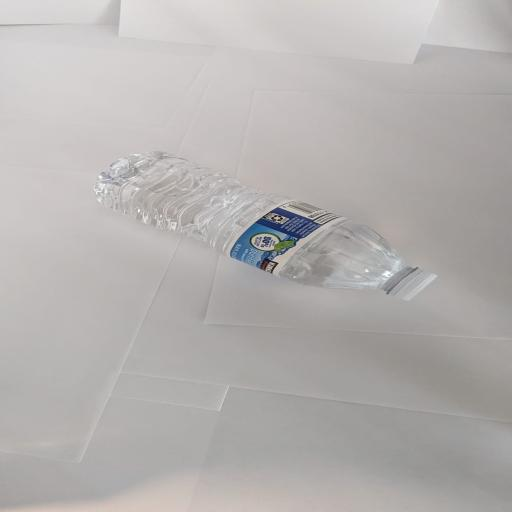waterbottle: (95, 152, 436, 299)
